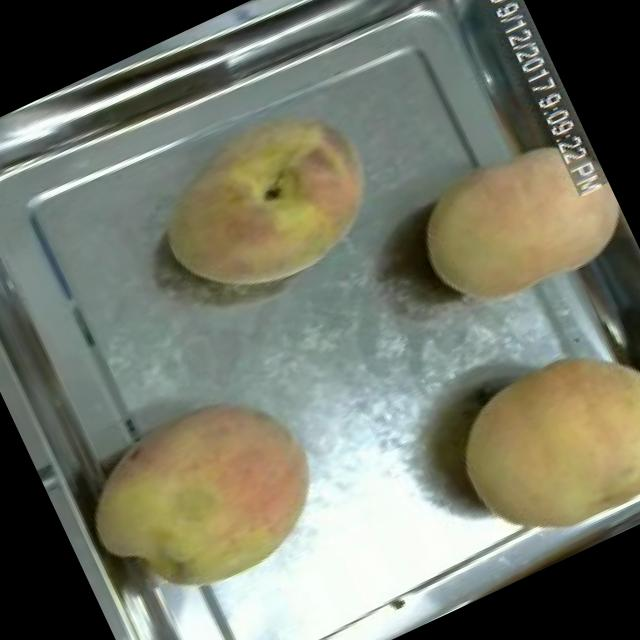Fruit: (53, 359, 354, 636), (126, 75, 404, 328), (423, 303, 640, 586), (391, 110, 640, 337)
